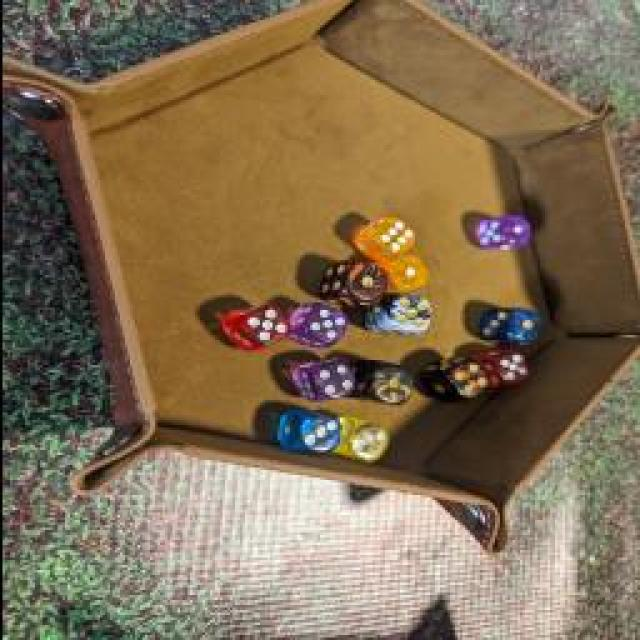dice_1: (268, 405, 344, 460), (314, 258, 388, 308), (354, 358, 418, 414), (474, 310, 541, 345), (474, 216, 528, 254), (375, 256, 430, 292)
dice_2: (329, 415, 389, 465)
dice_4: (286, 354, 356, 404), (419, 356, 491, 404)
dice_5: (281, 296, 354, 352), (214, 301, 294, 351), (359, 292, 436, 342), (475, 348, 533, 388)
dice_6: (350, 212, 415, 262)
